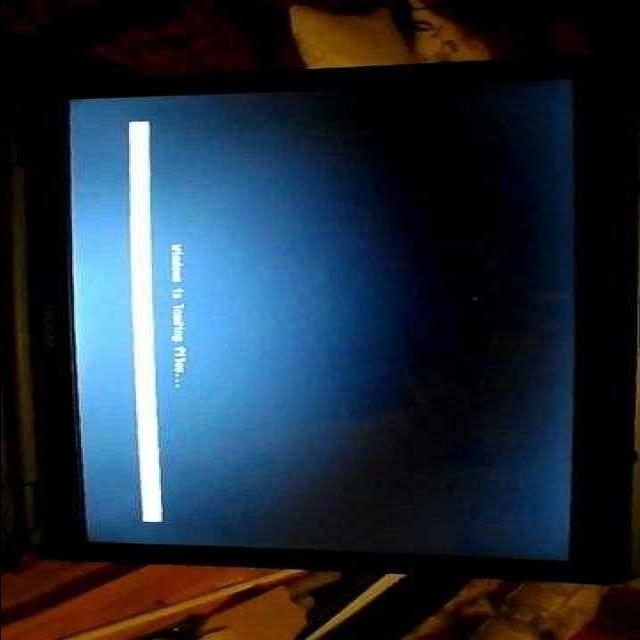laptop: (0, 65, 595, 573)
